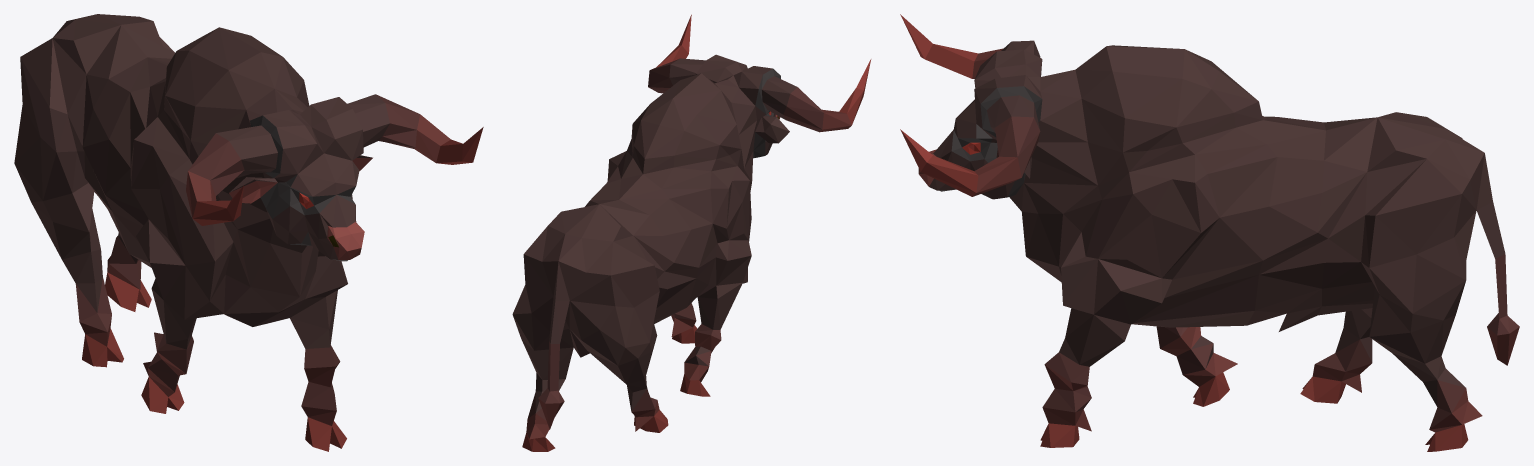
The model's file is brutus_demonic.gltf.
3 views of the same model, side by side, from view 1: azimuth 30°, elevation 25°; view 2: azimuth 150°, elevation 25°; view 3: azimuth 270°, elevation 25° (orthographic). The views are drawn at different scales.
Bounding box in the file's own units: 146 × 204 × 300.
1 material, 1 textured.
